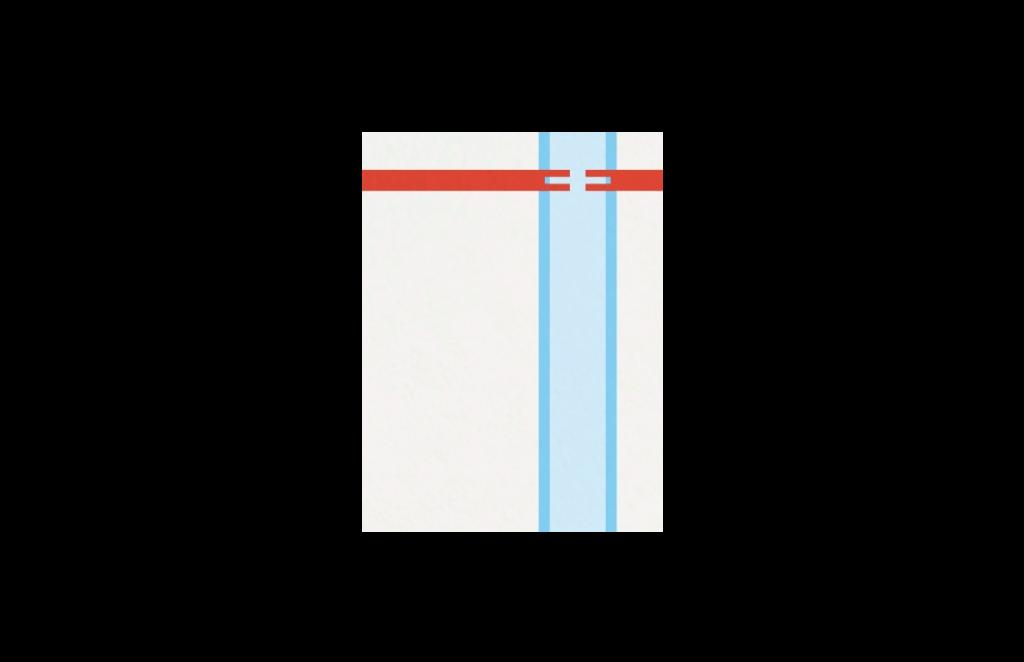tunnel: (532, 136, 640, 233)
